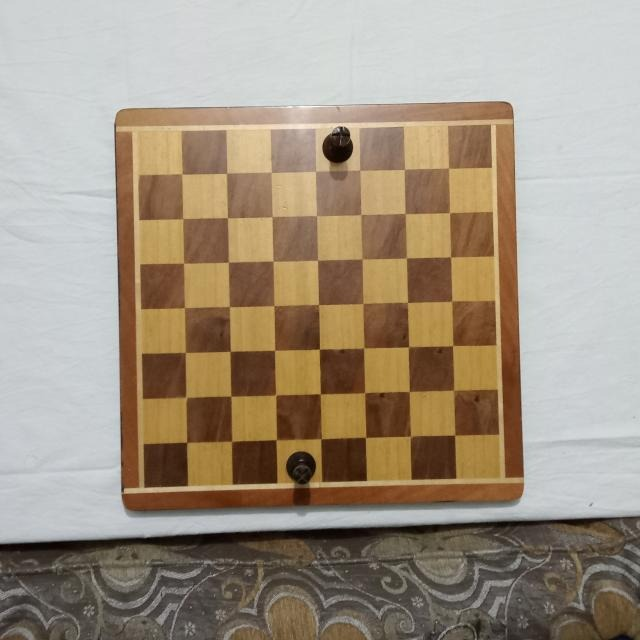black-rook: (321, 124, 354, 164), (283, 450, 317, 486)
